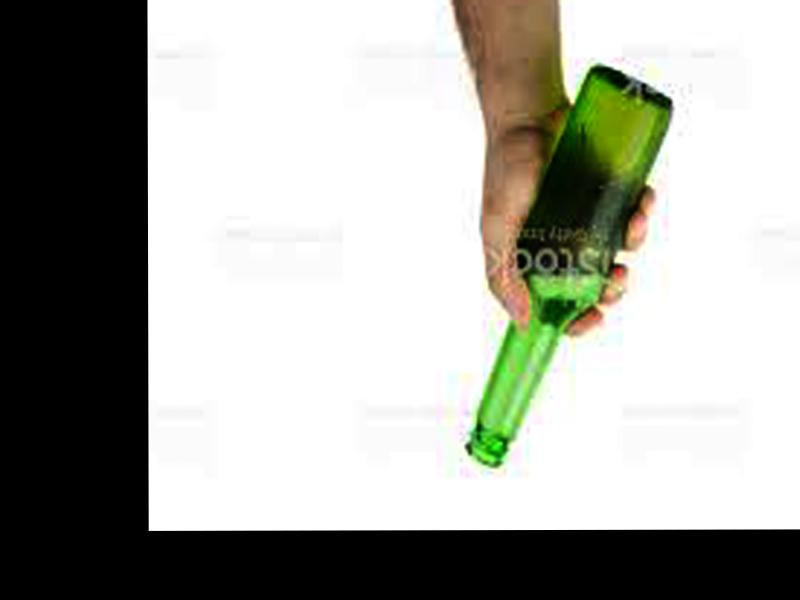Beer: (464, 70, 674, 470)
